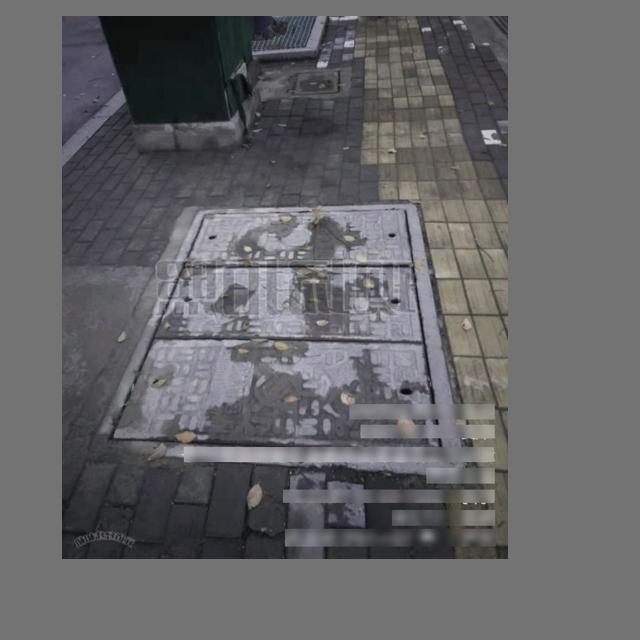good: (100, 201, 467, 471)
